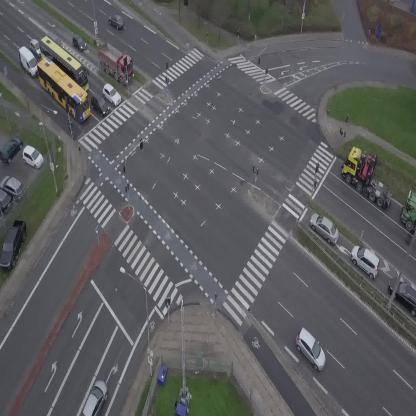bus: (29, 54, 100, 124), (32, 34, 98, 93)
car: (289, 325, 334, 372), (345, 241, 386, 280), (304, 209, 344, 246), (79, 378, 113, 416), (98, 81, 124, 107), (87, 92, 112, 119), (67, 32, 88, 54), (106, 10, 126, 31), (47, 31, 63, 45), (29, 38, 39, 57)
lorry: (333, 141, 409, 211), (88, 36, 142, 88), (12, 44, 43, 80), (401, 192, 416, 232)
